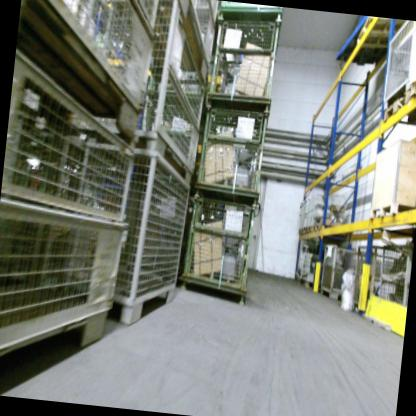pallet: (379, 92, 416, 131), (354, 15, 394, 49), (312, 217, 346, 238), (294, 271, 317, 293), (302, 224, 314, 235), (295, 228, 305, 235)
stillage: (0, 38, 148, 384), (57, 133, 198, 340), (80, 0, 217, 190), (9, 0, 160, 139), (177, 193, 262, 304), (112, 0, 222, 74), (205, 16, 282, 114), (194, 103, 269, 201), (347, 241, 410, 325), (372, 237, 413, 339), (379, 19, 415, 114), (320, 239, 364, 304), (217, 2, 287, 23)
